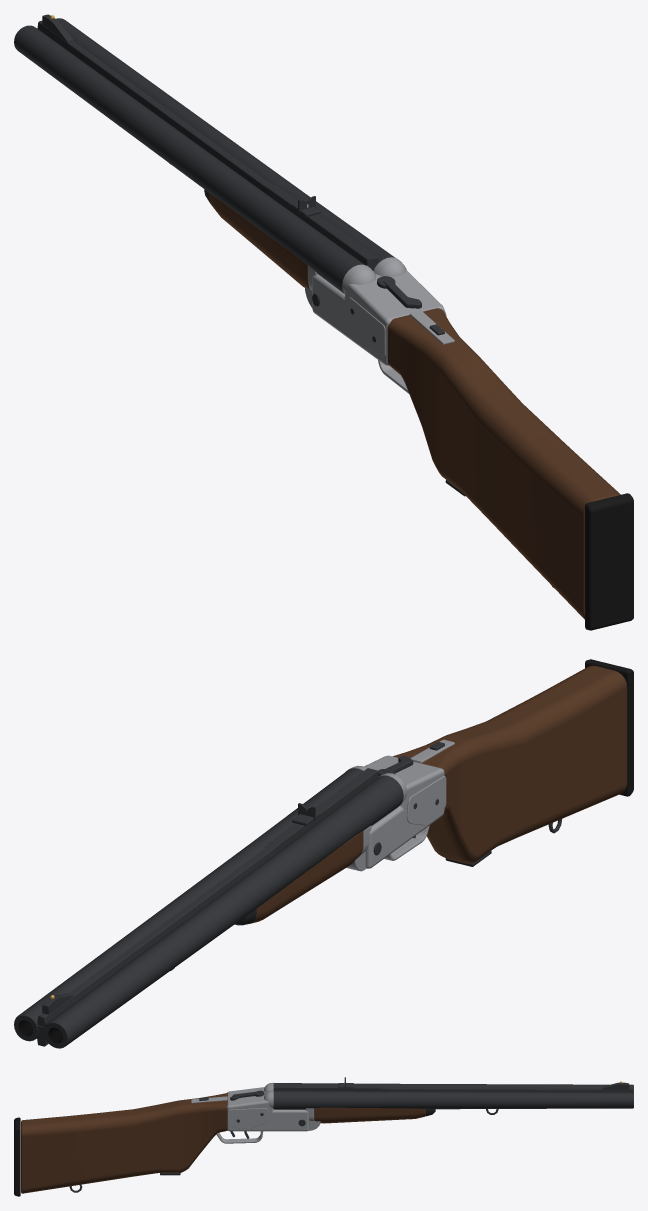
Rendered from double_rifle.glb.
3 renders of one model, top to bottom at view 1: azimuth 30°, elevation 25°; view 2: azimuth 150°, elevation 25°; view 3: azimuth 270°, elevation 25°, orthographic. The views are drawn at different scales.
Visible parts, largest first — view 1: Body, Barrels; view 2: Body, Barrels; view 3: Body, Barrels.
Boxes of the visible parts, x1,y1,x2,y2 form: Body: (304,257,633,630); Barrels: (14,14,395,293); Body: (345,659,633,871); Barrels: (14,768,403,1048); Body: (14,1082,320,1196); Barrels: (273,1077,633,1123).
Size of the model in its own units: 0.0678 by 0.2112 by 1.05.
